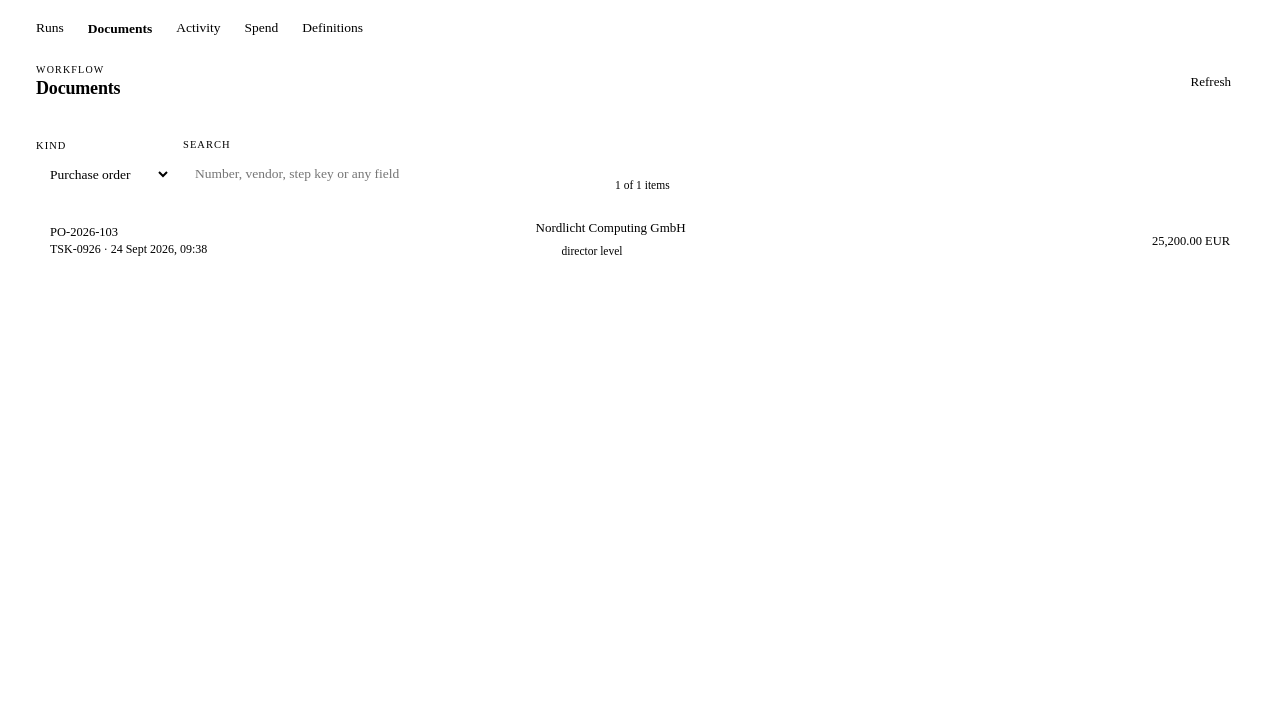
Test: Documents screen › finds documents of a kind and opens one beside the list
Click the button "PO-2026-103" at (84, 232), box [36,209,1244,273]
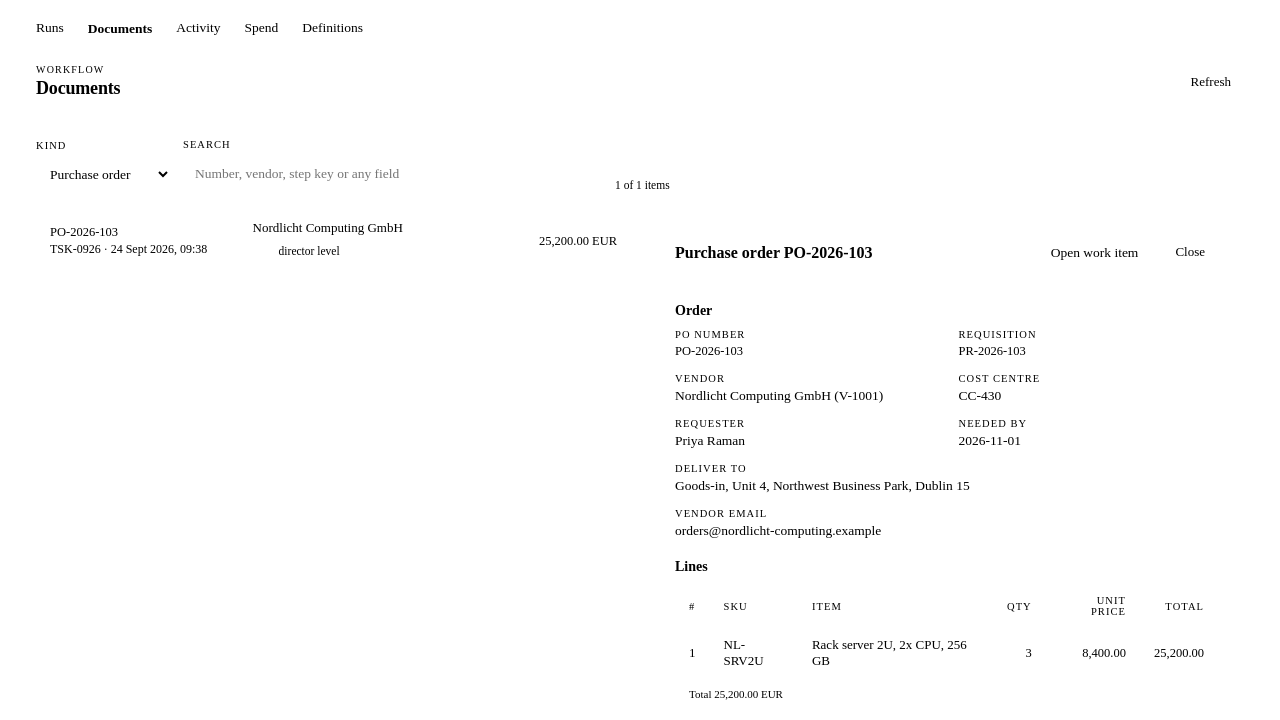
Check: the text "Nordlicht Computing GmbH (V-1001)" is shown, box [675,388,883,404]
